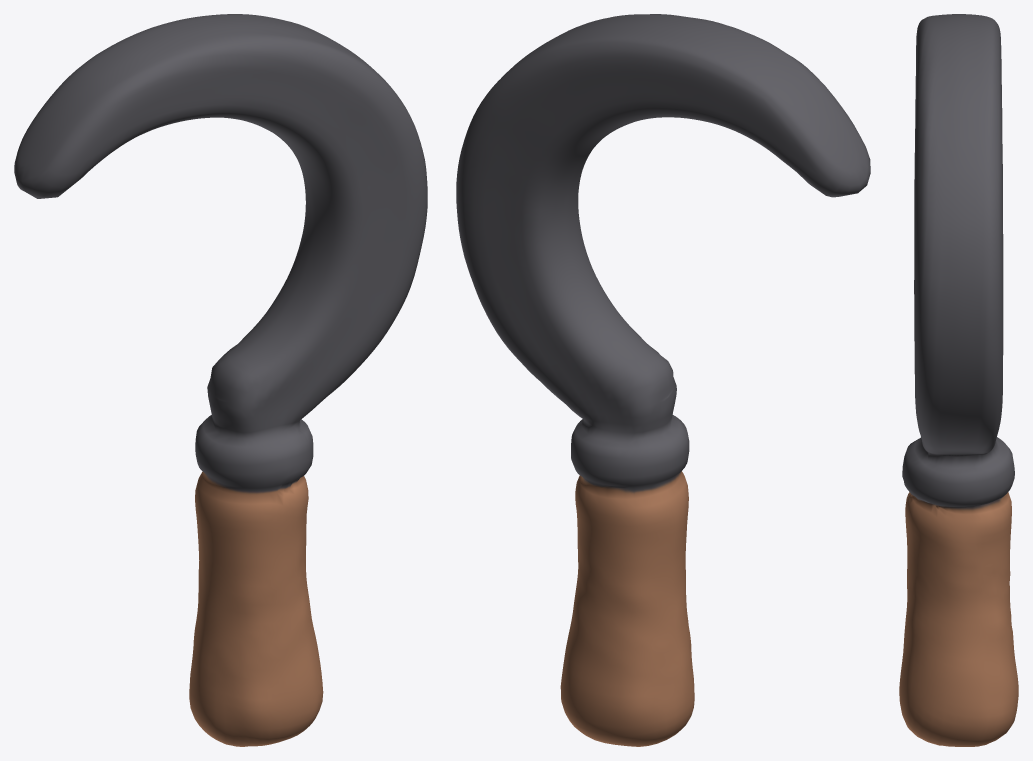
File: Sickle.fbx
3 views of the same model, side by side, from view 1: azimuth 30°, elevation 25°; view 2: azimuth 150°, elevation 25°; view 3: azimuth 270°, elevation 25° (orthographic). The views are drawn at different scales.
Parts seen in each view (by area): view 1: LOW; view 2: LOW; view 3: LOW.
Boxes of the visible parts, bbox=[...] form: LOW: bbox=[14, 14, 427, 746]; LOW: bbox=[456, 14, 870, 746]; LOW: bbox=[899, 14, 1018, 746].
Size of the model in its own units: 0.6087 by 1.06 by 0.1714.
Materials: 1 (1 with a texture image).
